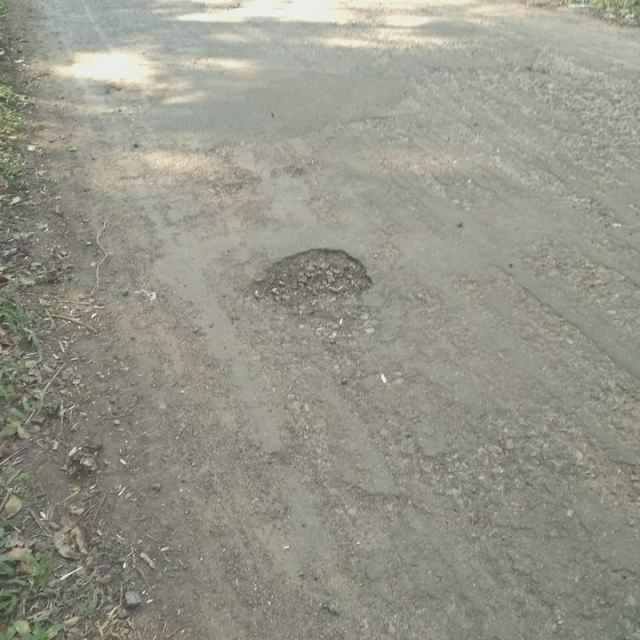Pothole: (242, 244, 375, 314)
